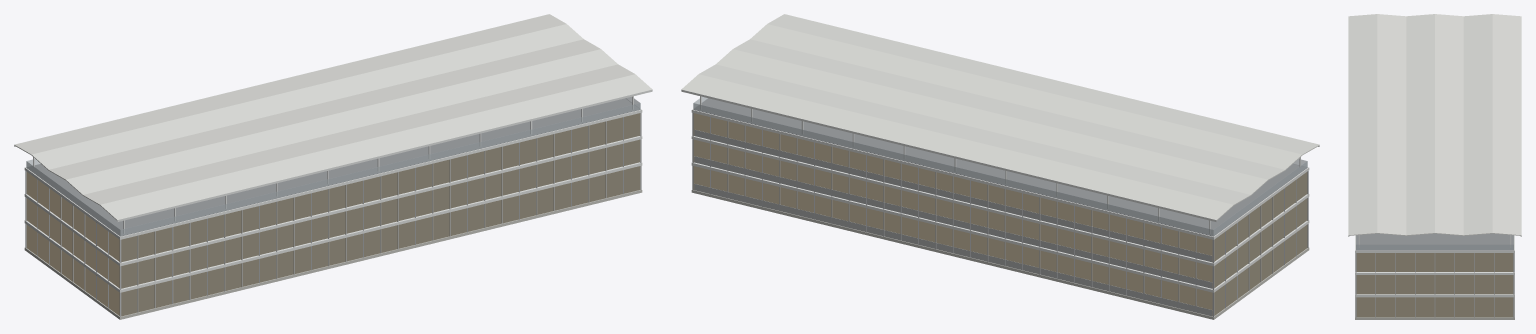
File: mza_hospitality.glb
The picture shows the model from 3 angles, left to right: view 1: azimuth 30°, elevation 25°; view 2: azimuth 150°, elevation 25°; view 3: azimuth 270°, elevation 25°; orthographic projection. The views are drawn at different scales.
Parts seen in each view (by area): view 1: monza-hospitality; view 2: monza-hospitality; view 3: monza-hospitality.
Part boxes in pixels (x1,y1,x2,y2): monza-hospitality: [14, 14, 652, 319]; monza-hospitality: [681, 14, 1319, 319]; monza-hospitality: [1348, 14, 1521, 319].
Bounding box in the file's own units: 93.1 × 17.79 × 31.1.
